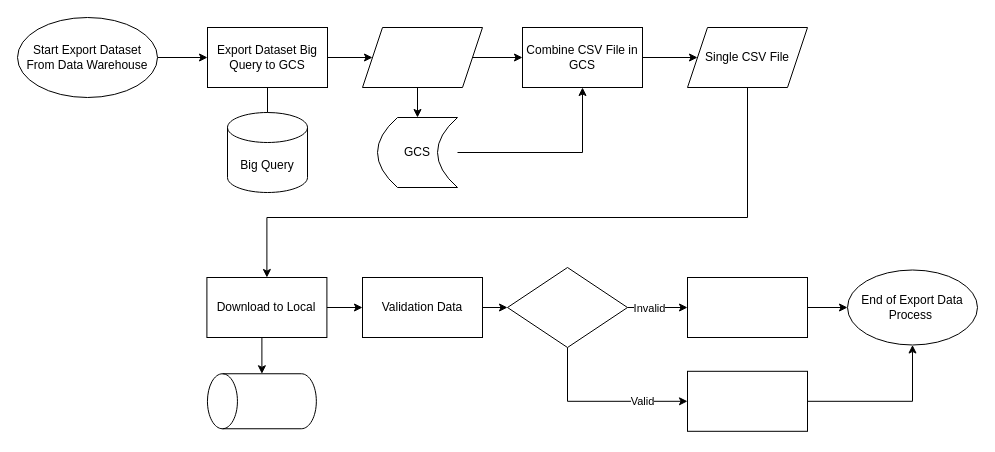
Image size: 995x452. Some labels were removed from this diagram. Each missing label, with the centre of its shape:
"CSV File Shards" goes at [422,57].
"DAGs Fail Alert is Invalid" goes at [747,307].
"Is Data Valid ?" goes at [567,307].
"Local Storage" goes at [261,401].
"Logging Data is Valid" goes at [747,400].
